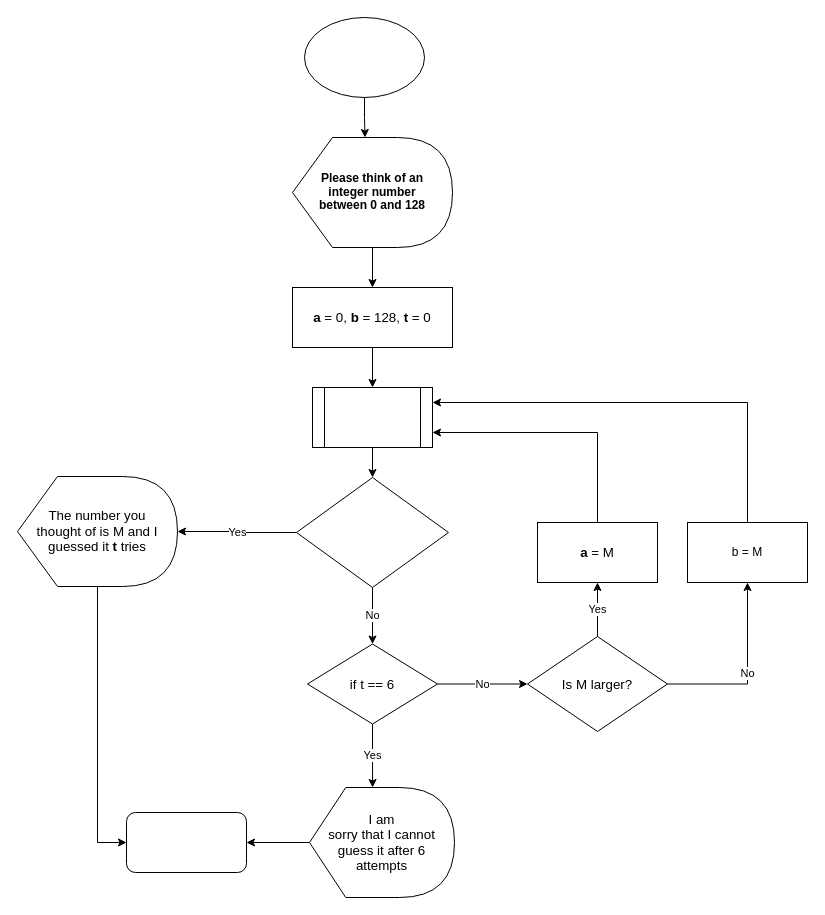
Some shapes in this 825 by 915 pixel diagram are drawn without their labels. The shapes that lost their labels are listed below. From the top down, each one's centre as x and y in pixels, then its label:
point (364, 57): Start
point (372, 417): M = (a + b) / 2 t = t + 1
point (372, 532): Is M correct?
point (186, 842): End
